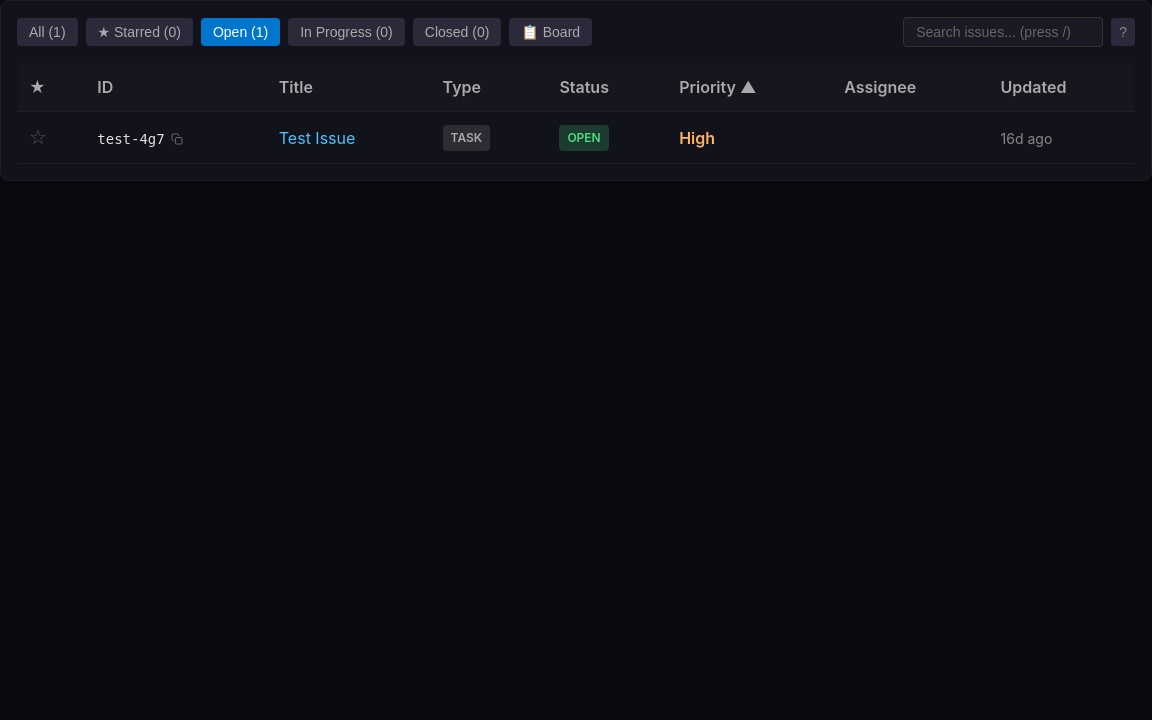
Test: IssueList › help modal › shows keyboard shortcuts
Click the button titled "Keyboard shortcuts" at {"x": 1123, "y": 32}, box [1111,18,1135,46]
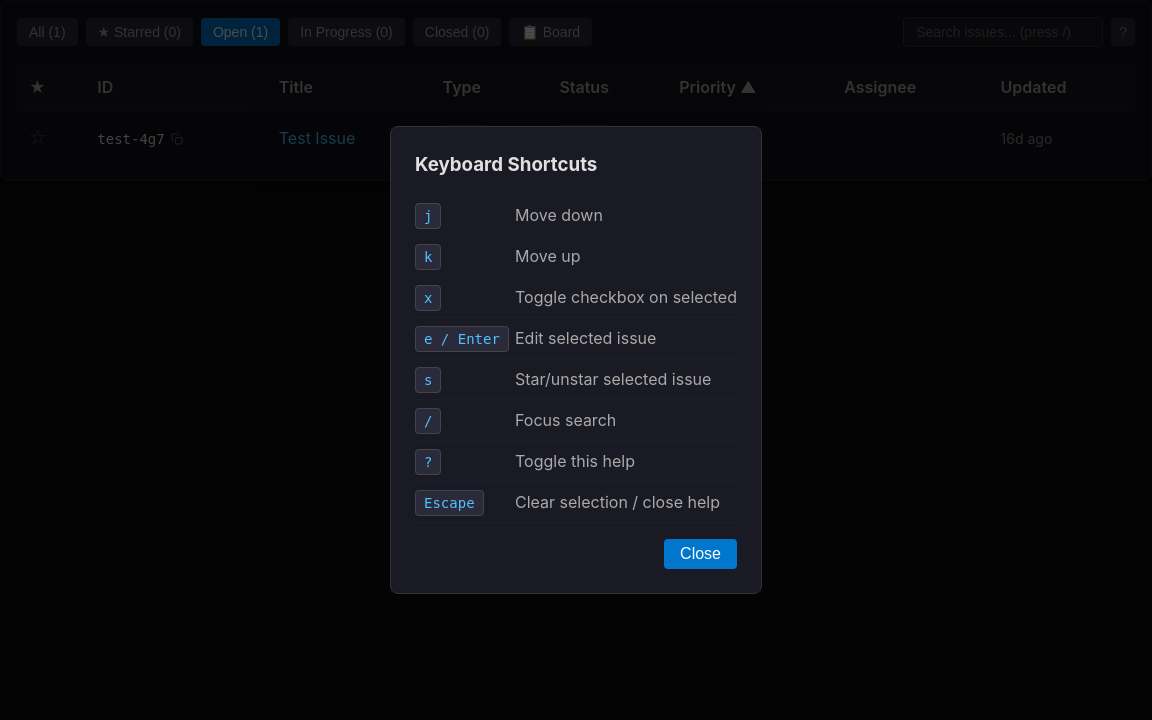
Now the heading "Keyboard Shortcuts" is shown, box [415,153,597,176]
Now the text "Move down" is shown, box [515,195,737,236]
Now the text "Move up" is shown, box [515,236,737,276]
